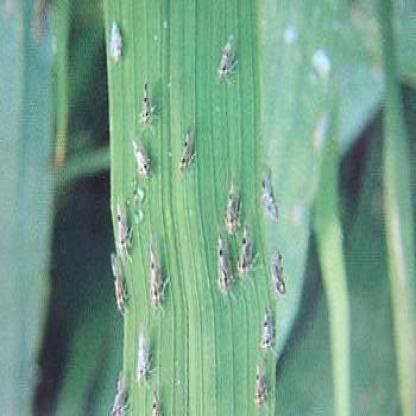brown-planthopper: (105, 260, 129, 312), (150, 240, 166, 312), (178, 122, 200, 174), (217, 36, 239, 87), (266, 245, 287, 298), (216, 238, 233, 300), (134, 328, 152, 386), (128, 135, 151, 177), (115, 194, 130, 258), (236, 233, 254, 285), (224, 179, 240, 234), (138, 84, 155, 132), (108, 22, 124, 64), (254, 358, 268, 406), (261, 309, 274, 353)
